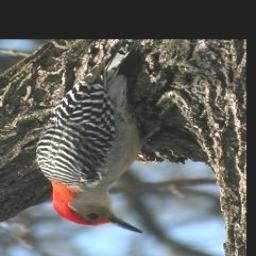Woodpecker: (31, 43, 165, 236)
